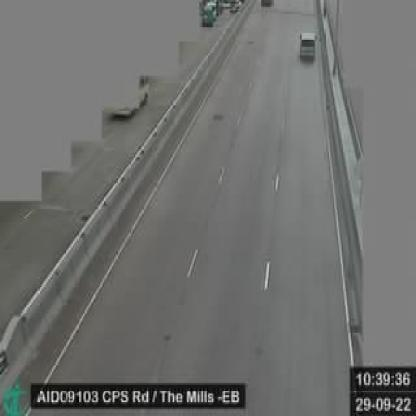Car: (298, 26, 317, 64)
